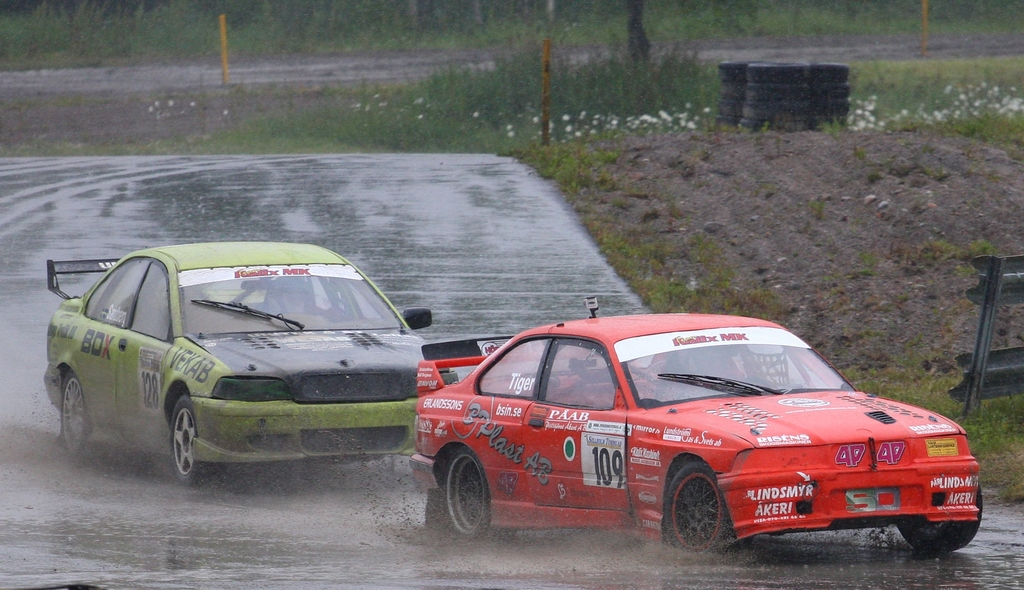Car: (398, 308, 983, 545), (42, 238, 457, 492)
